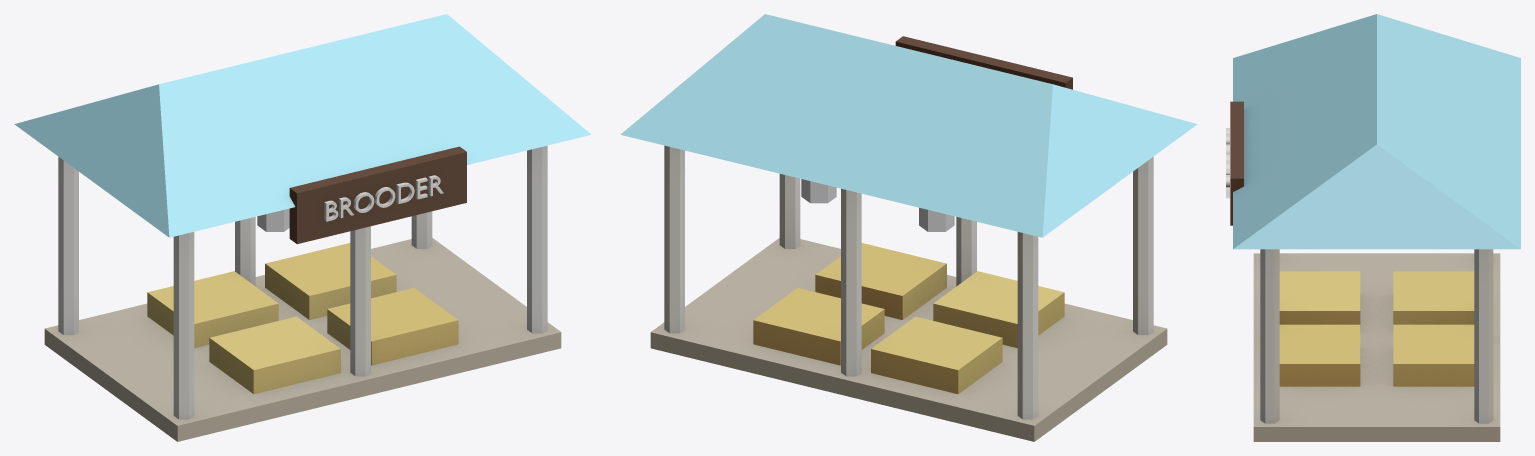
Rendered from home_brooder_2.fbx.
3 renders of one model, left to right at view 1: azimuth 30°, elevation 25°; view 2: azimuth 150°, elevation 25°; view 3: azimuth 270°, elevation 25°, orthographic. The views are drawn at different scales.
Visible parts, largest first — view 1: home_brooder_2_body, home_brooder_2_body_glow; view 2: home_brooder_2_body, home_brooder_2_body_glow; view 3: home_brooder_2_body.
Part boxes in pixels (<box>): home_brooder_2_body: <box>14,14,591,441</box>; home_brooder_2_body_glow: <box>257,208,289,231</box>; home_brooder_2_body: <box>620,14,1197,441</box>; home_brooder_2_body_glow: <box>801,179,954,231</box>; home_brooder_2_body: <box>1226,14,1520,441</box>.
Size of the model in its own units: 1650 by 1110 by 1075.
Materials: 2 (1 with a texture image).
